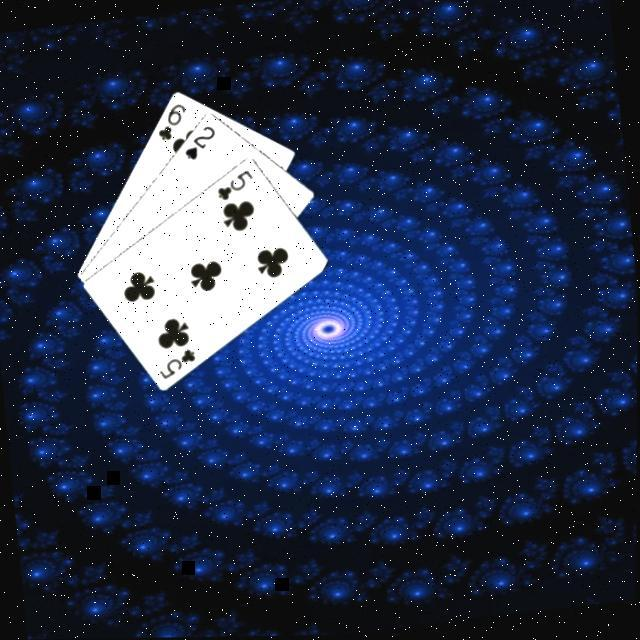2S: (178, 122, 220, 164)
5C: (212, 166, 257, 205), (154, 345, 199, 384)
6C: (151, 100, 191, 145)
